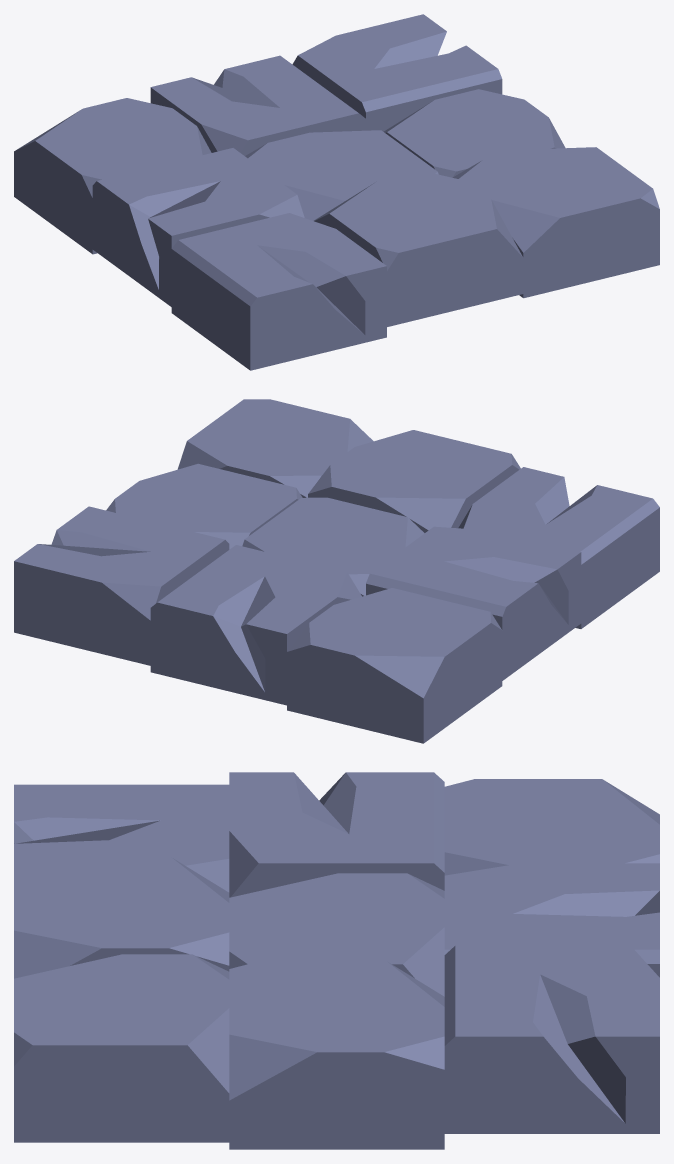
Rendered from Floor.fbx.
The picture shows the model from 3 angles, top to bottom: view 1: azimuth 30°, elevation 25°; view 2: azimuth 150°, elevation 25°; view 3: azimuth 270°, elevation 25°; orthographic projection. The views are drawn at different scales.
Visible parts, largest first — view 1: Floor; view 2: Floor; view 3: Floor.
Boxes of the visible parts, x1=… form: Floor: x1=14, y1=14, x2=659, y2=370; Floor: x1=14, y1=399, x2=659, y2=743; Floor: x1=14, y1=772, x2=659, y2=1149.
Bounding box in the file's own units: 3 × 0.5965 × 3.
